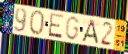2: (99, 22, 115, 48)
9: (13, 7, 29, 33)
A: (80, 18, 99, 45)
E: (47, 12, 65, 40)
G: (64, 16, 80, 42)
O: (29, 10, 46, 37)
